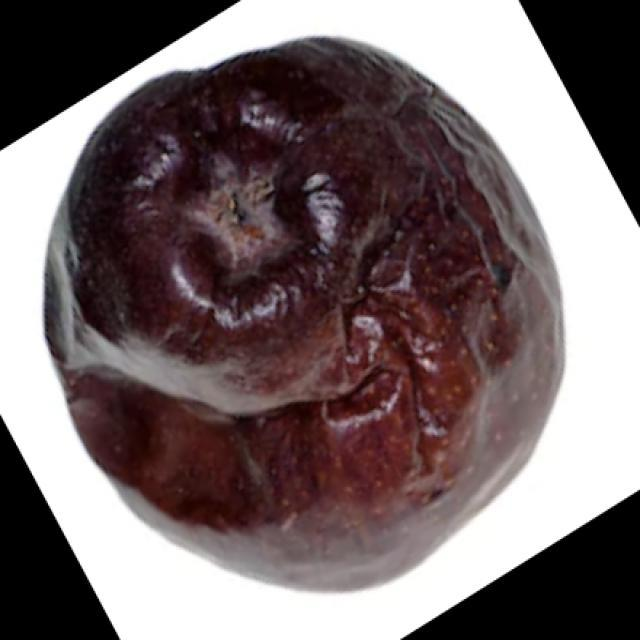Rotten: (55, 55, 563, 602)
